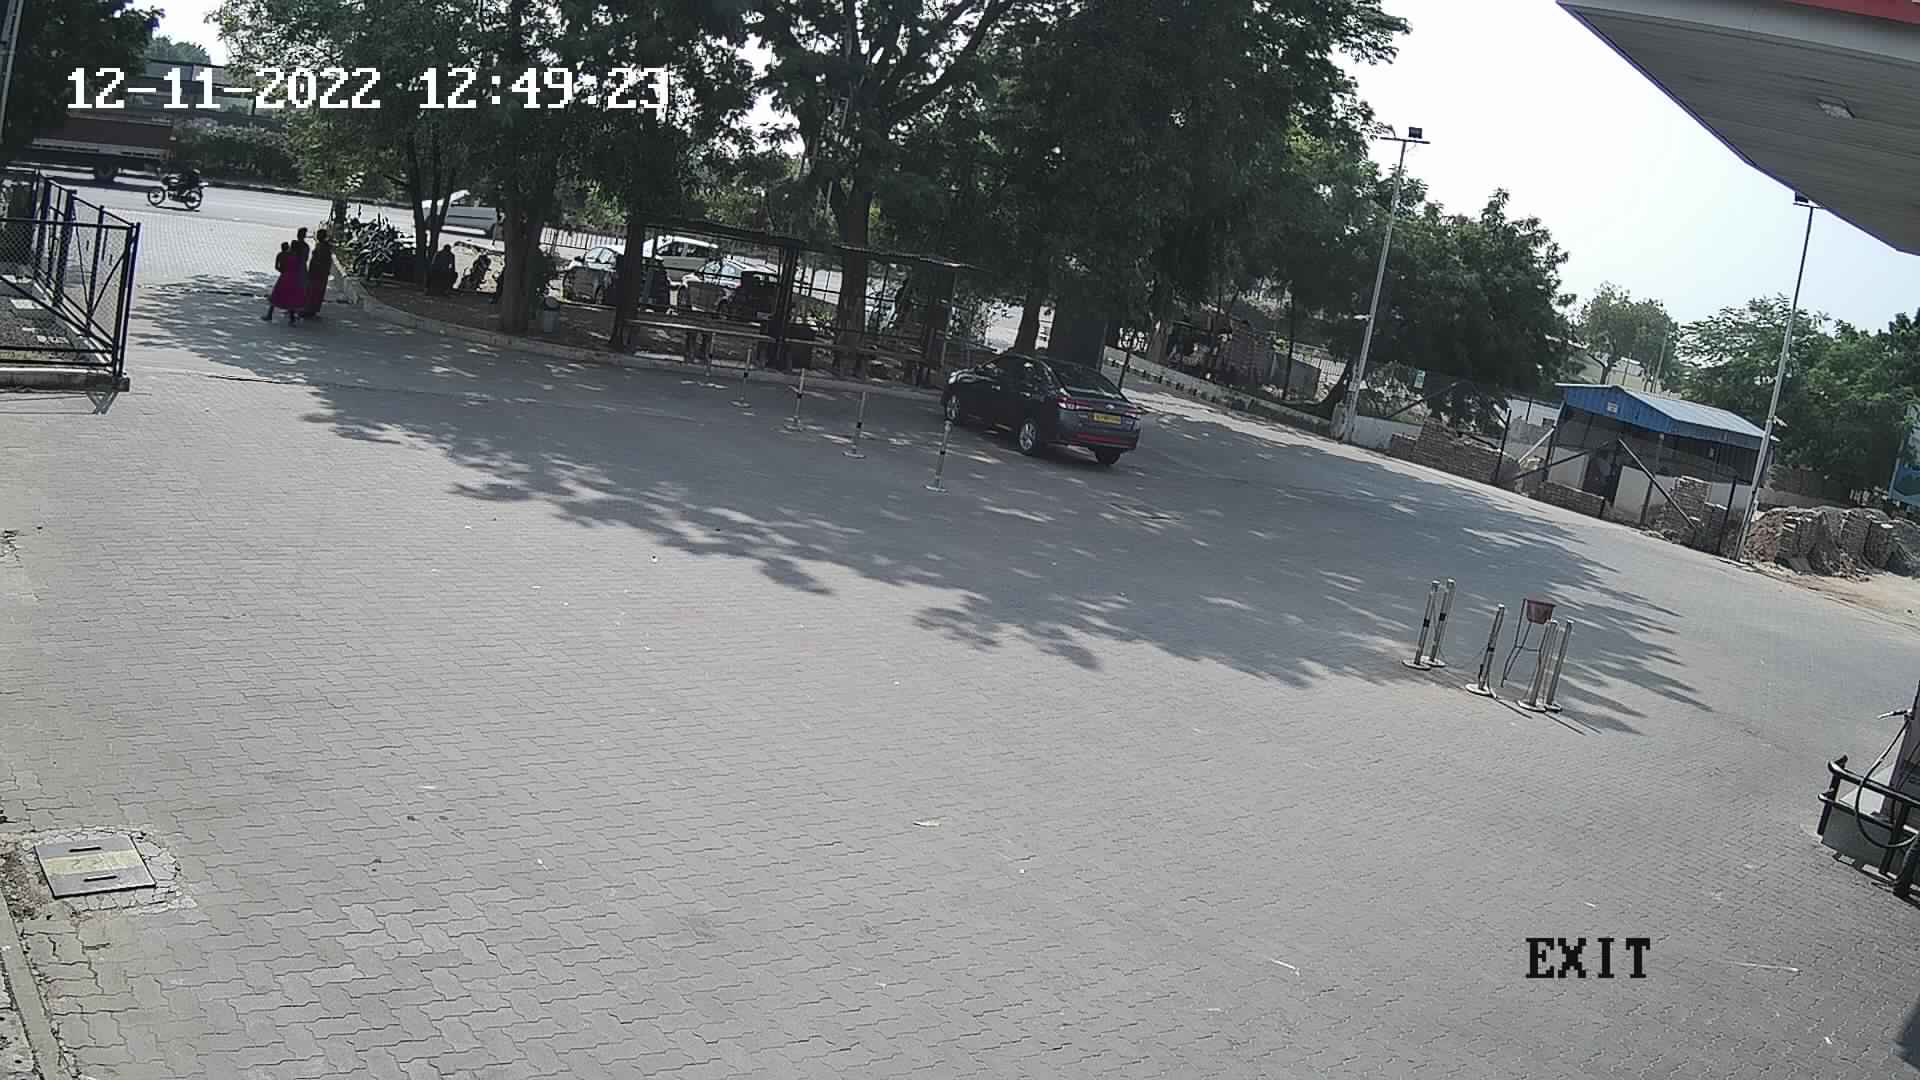Bike: (142, 137, 219, 214)
Car: (943, 340, 1147, 468), (670, 247, 785, 316), (406, 182, 506, 248), (554, 233, 632, 309), (641, 225, 729, 290)
HMV: (8, 61, 202, 200)
